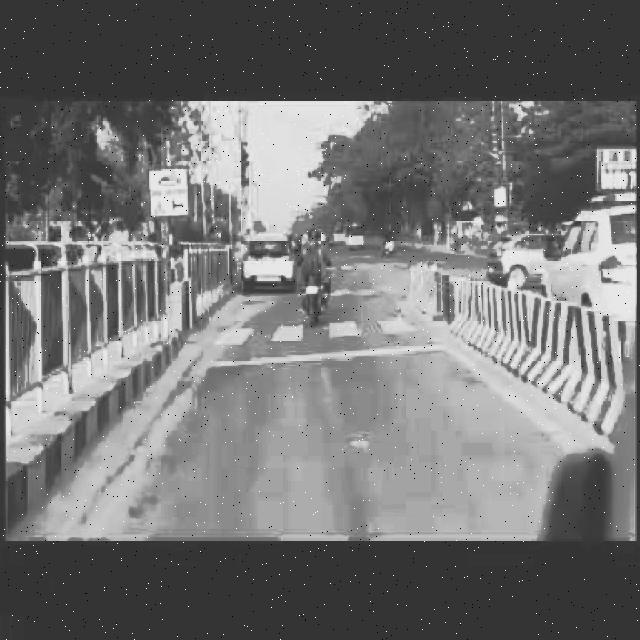Car: (558, 205, 638, 318), (478, 220, 564, 275), (242, 224, 300, 292)
